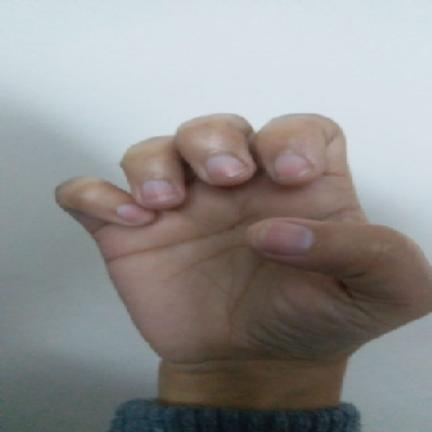Nail: (254, 218, 316, 254), (271, 152, 312, 181), (204, 154, 245, 181), (116, 203, 154, 224), (143, 181, 177, 202)
